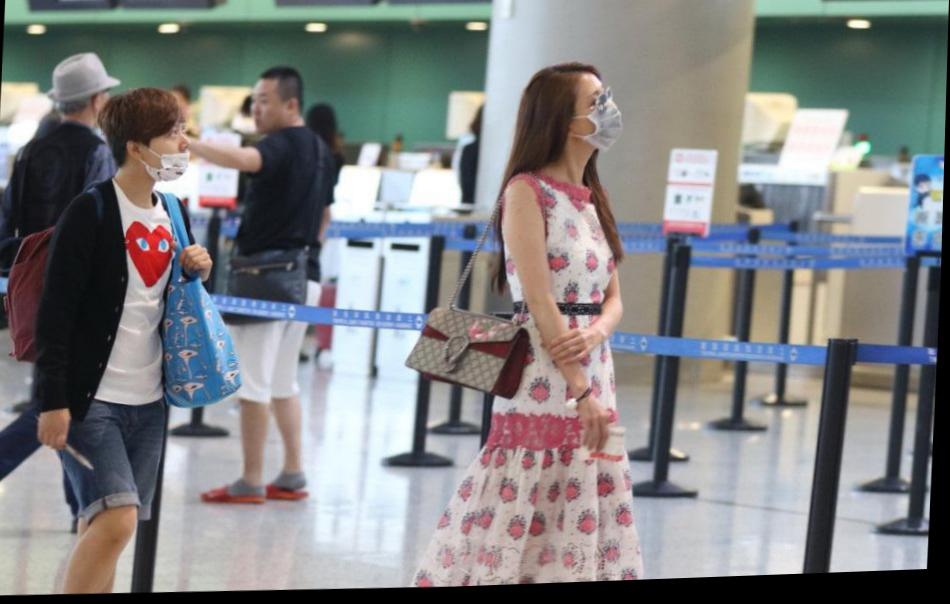NONE: (247, 92, 290, 138)
OK: (571, 91, 625, 157)
WRONG: (133, 113, 195, 185)
